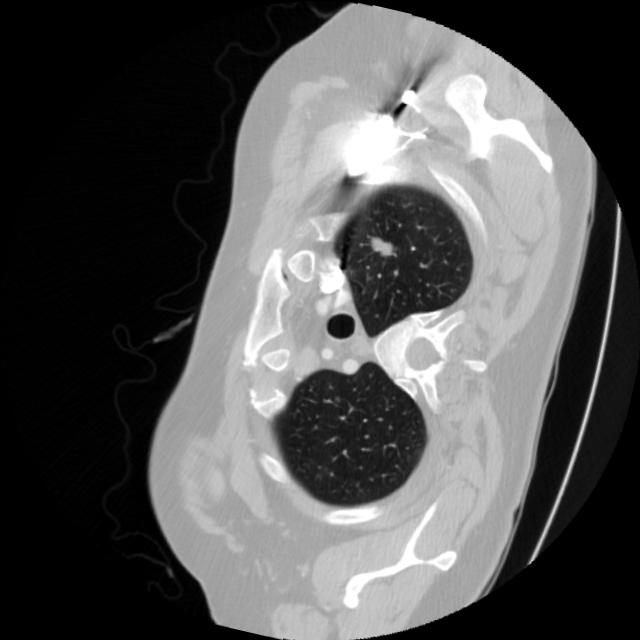nodule: (356, 220, 406, 270)
